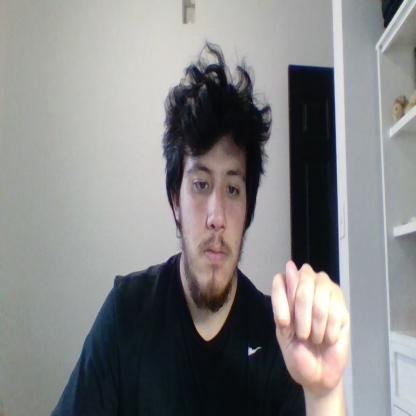T: (272, 260, 350, 390)
